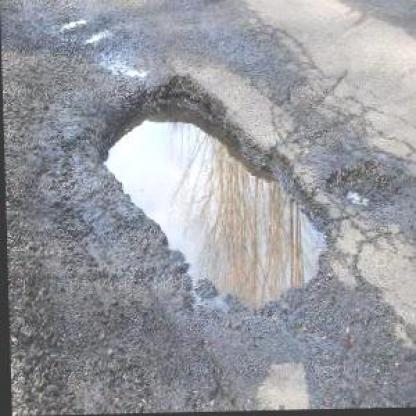pothole: (96, 68, 334, 320), (326, 155, 408, 212)
